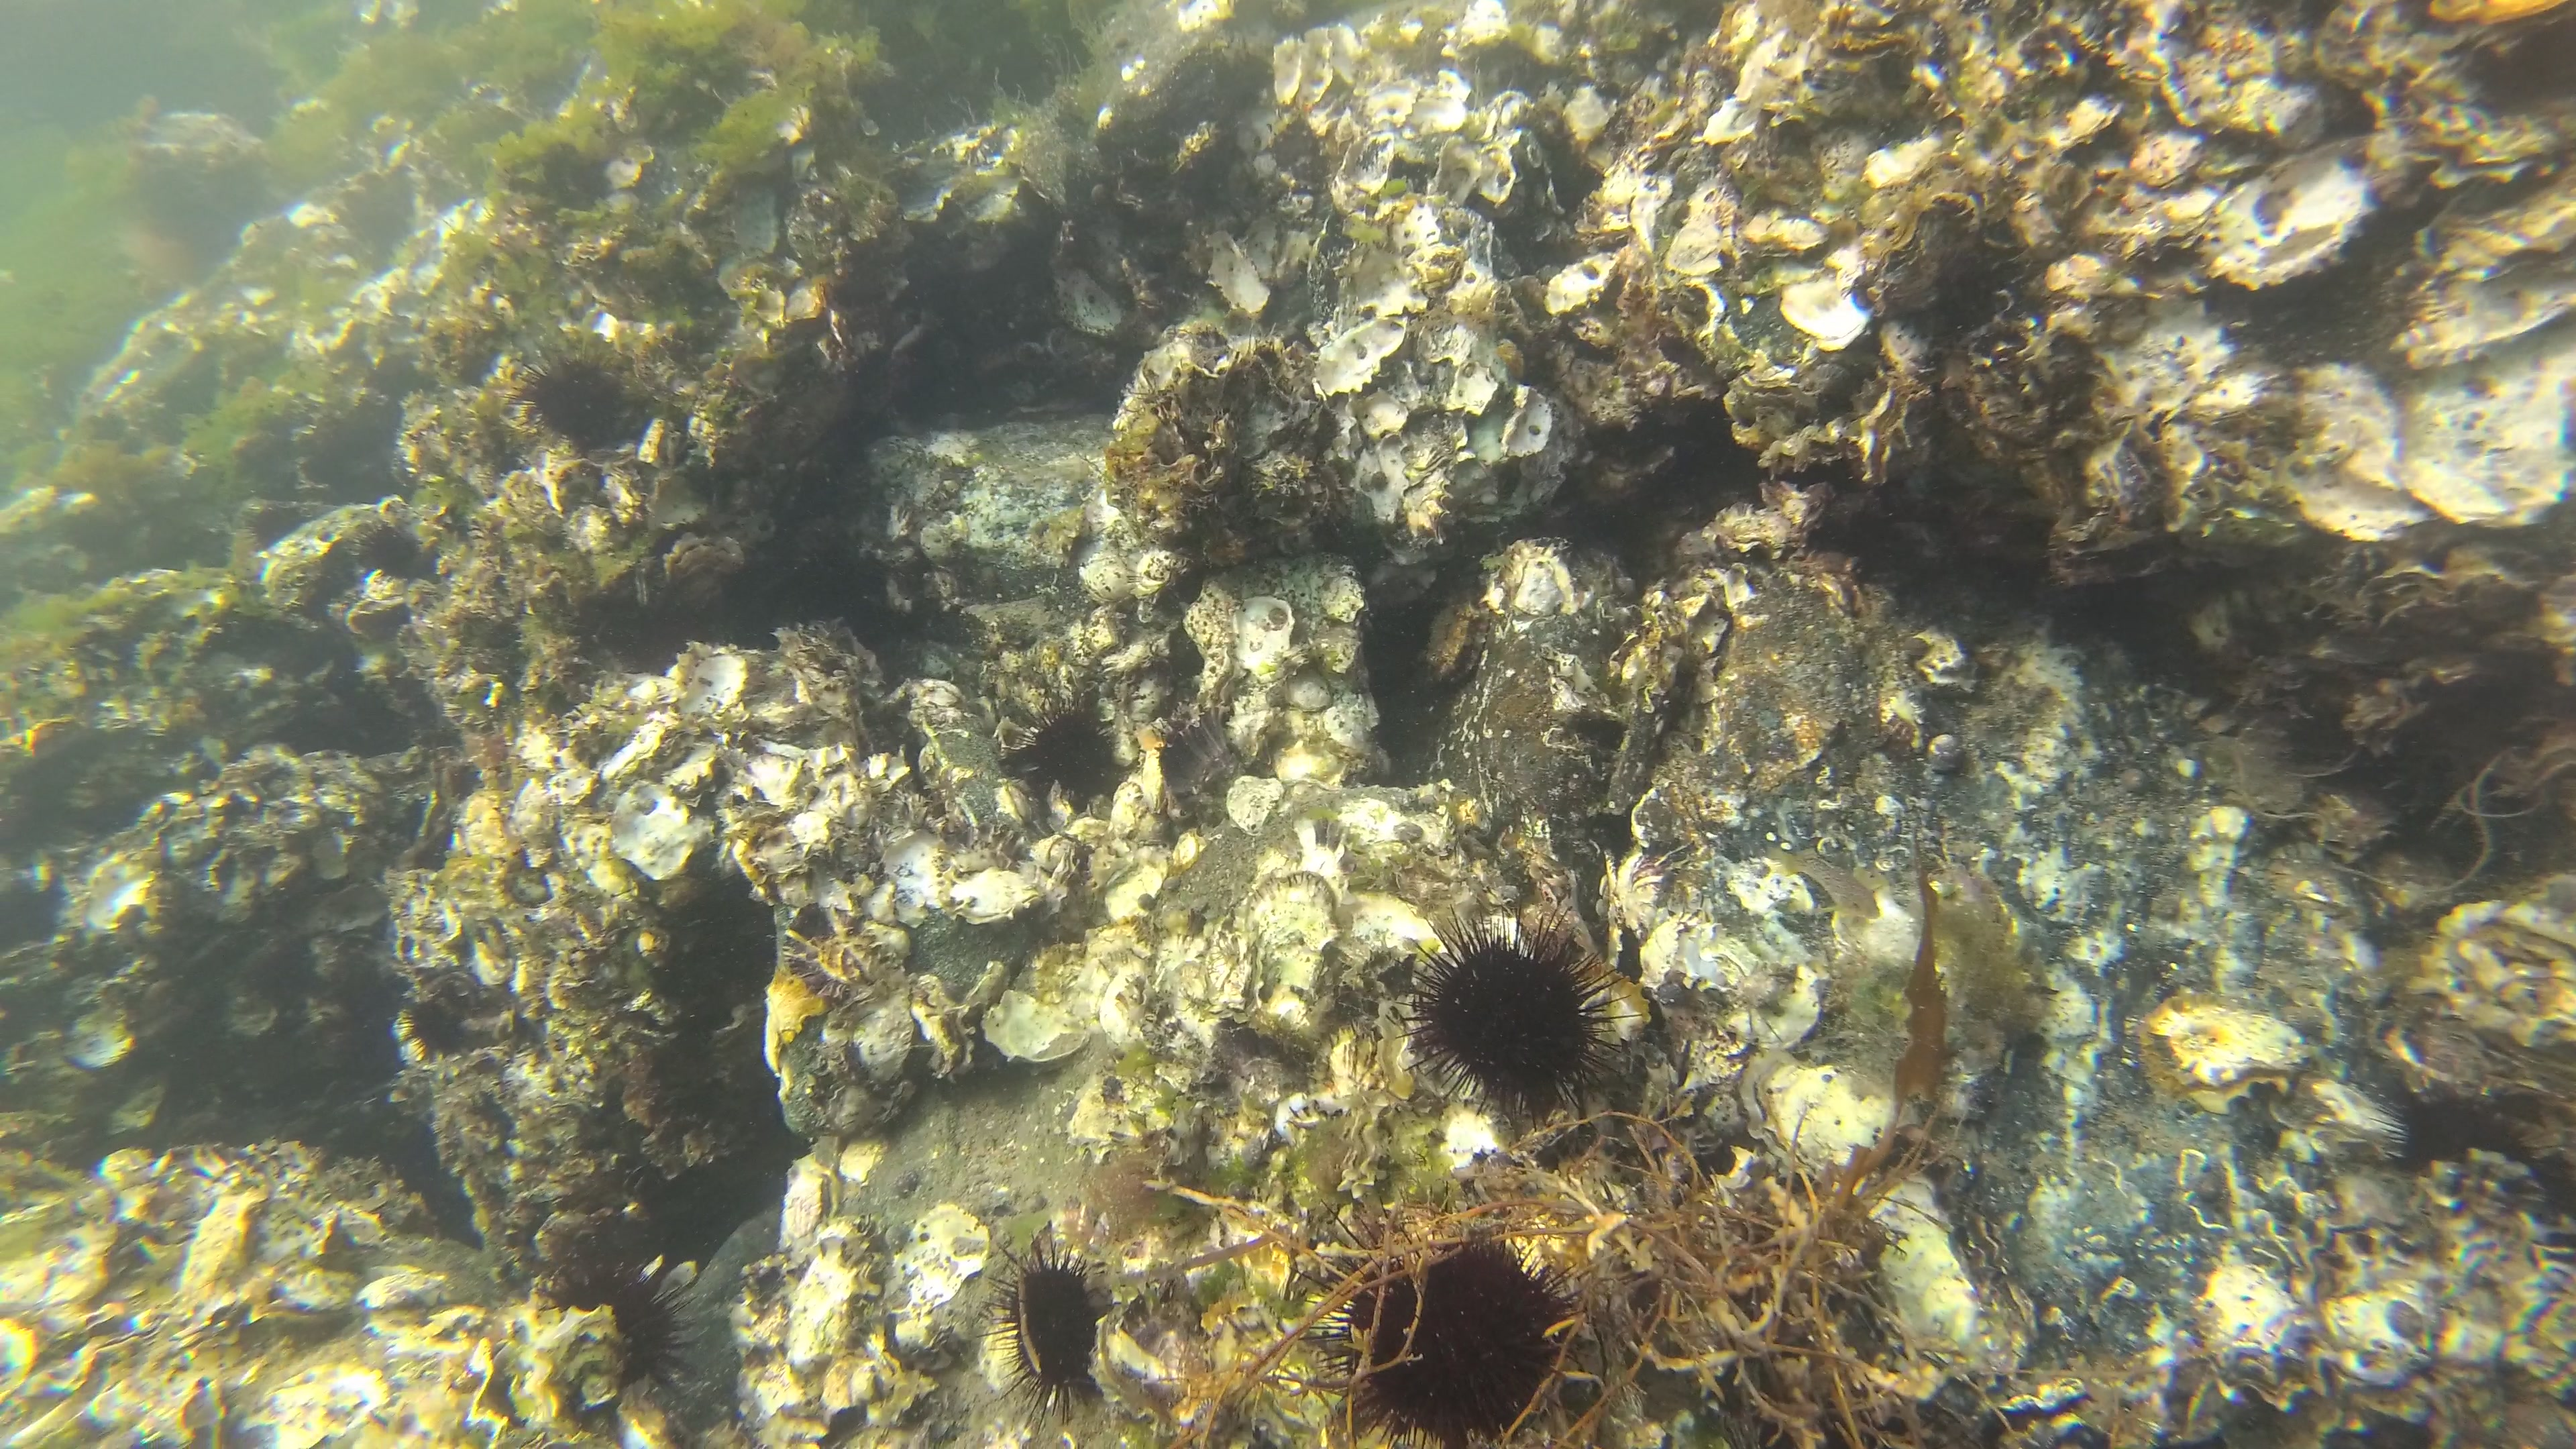echinus: (1316, 1200, 1591, 1449), (1401, 915, 1635, 1122), (538, 1254, 702, 1396), (991, 1237, 1116, 1414), (2392, 1070, 2558, 1182), (515, 347, 632, 449), (1014, 699, 1118, 800), (349, 522, 419, 580)
